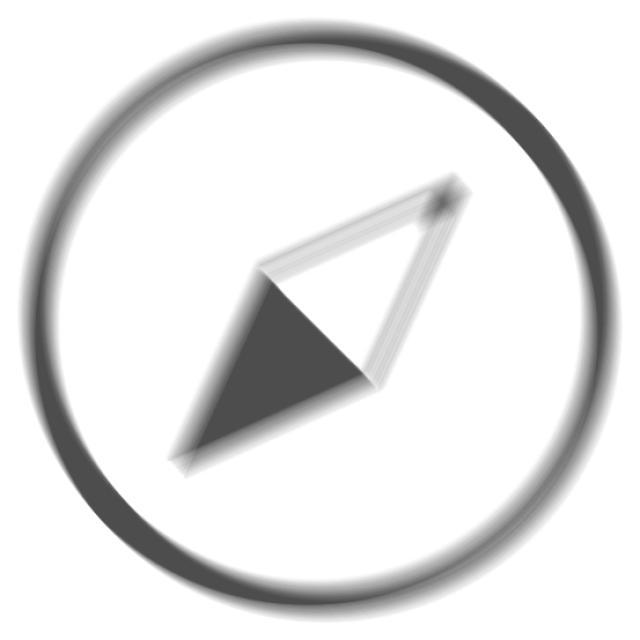compass: (11, 16, 630, 631)
